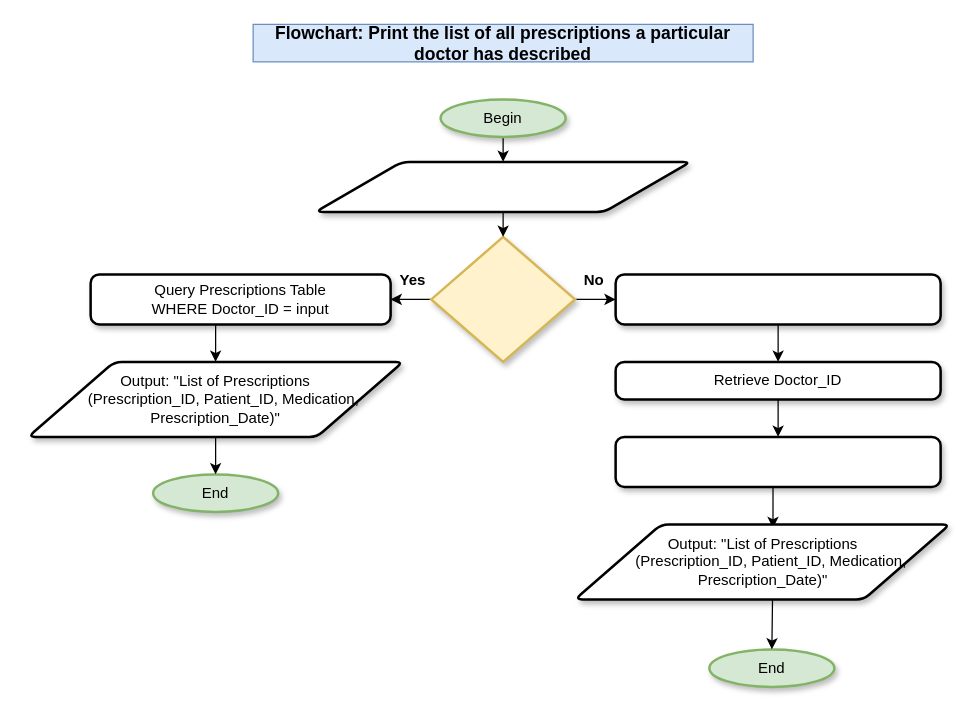
Image size: 980x718. Some labels were removed from this diagram. Each missing label, with the centre of its shape:
"Input Doctor_Name , or Doctor_ID" goes at point (504, 188).
"Is Doctor_ID provided?" goes at point (503, 300).
"Query Doctors Table WHERE Doctor_Name= input" goes at point (779, 301).
"Query PrescriptionsTable WHERE Doctor_ID = retrieved Doctor_ID" goes at point (779, 463).
